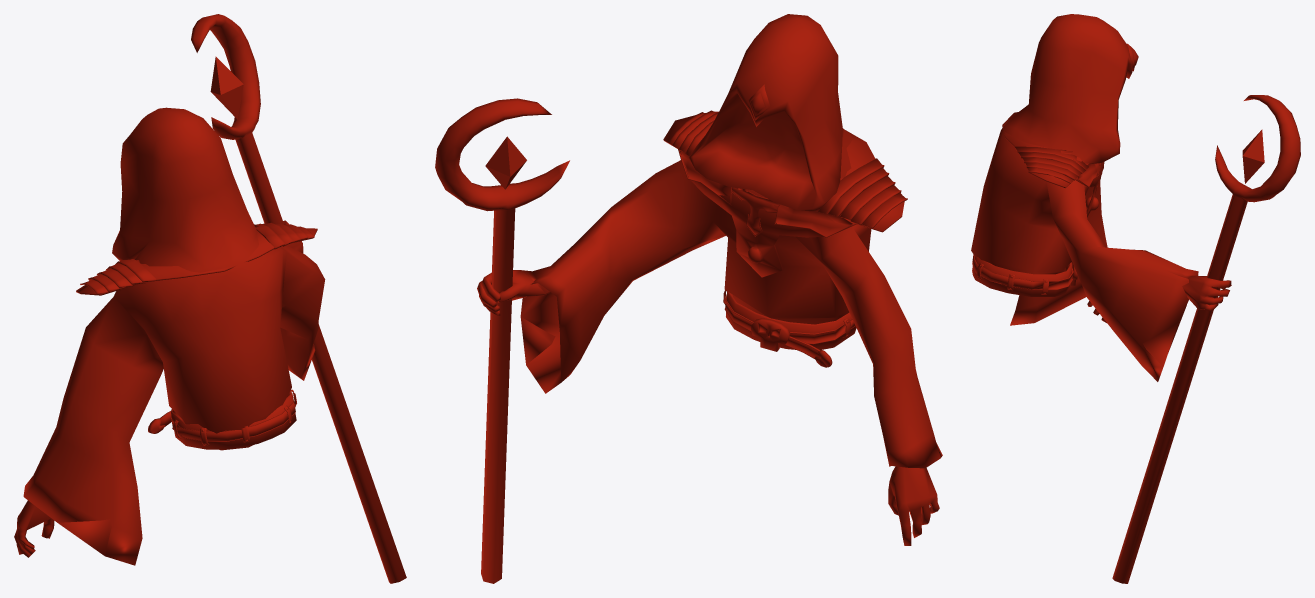
File: top_000060.obj
The picture shows the model from 3 angles, left to right: view 1: azimuth 30°, elevation 25°; view 2: azimuth 150°, elevation 25°; view 3: azimuth 270°, elevation 25°; orthographic projection. The views are drawn at different scales.
Parts seen in each view (by area): view 1: LowPoly_Warlock.000_Plane.005; view 2: LowPoly_Warlock.000_Plane.005; view 3: LowPoly_Warlock.000_Plane.005.
Boxes of the visible parts, left/top/right/bottom form: LowPoly_Warlock.000_Plane.005: left=14, top=14, right=406, bottom=583; LowPoly_Warlock.000_Plane.005: left=435, top=14, right=942, bottom=583; LowPoly_Warlock.000_Plane.005: left=971, top=14, right=1300, bottom=583.
Size of the model in its own units: 1.44 by 1.88 by 1.21.
